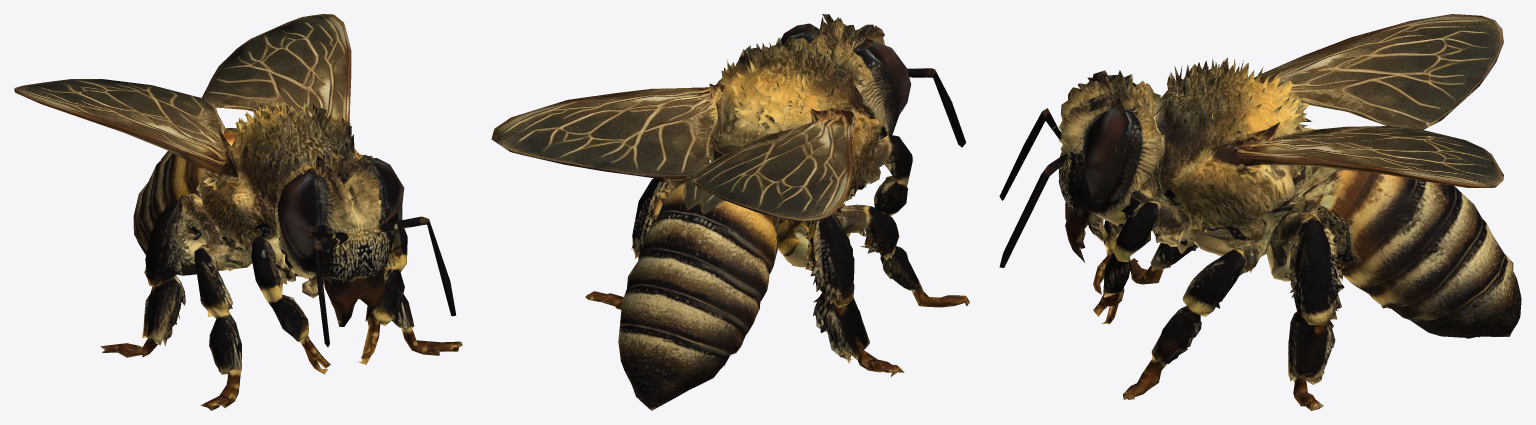
File: bee.glb
3 renders of one model, left to right at view 1: azimuth 30°, elevation 25°; view 2: azimuth 150°, elevation 25°; view 3: azimuth 270°, elevation 25°, orthographic. The views are drawn at different scales.
Parts seen in each view (by area): view 1: Object_5; view 2: Object_5; view 3: Object_5.
Boxes of the visible parts, box(x1,y1,x2,y2) form: Object_5: box(14, 14, 462, 410); Object_5: box(491, 14, 970, 410); Object_5: box(999, 14, 1521, 410).
Bounding box in the file's own units: 1.48 × 1.09 × 1.9.
1 material, 1 textured.
